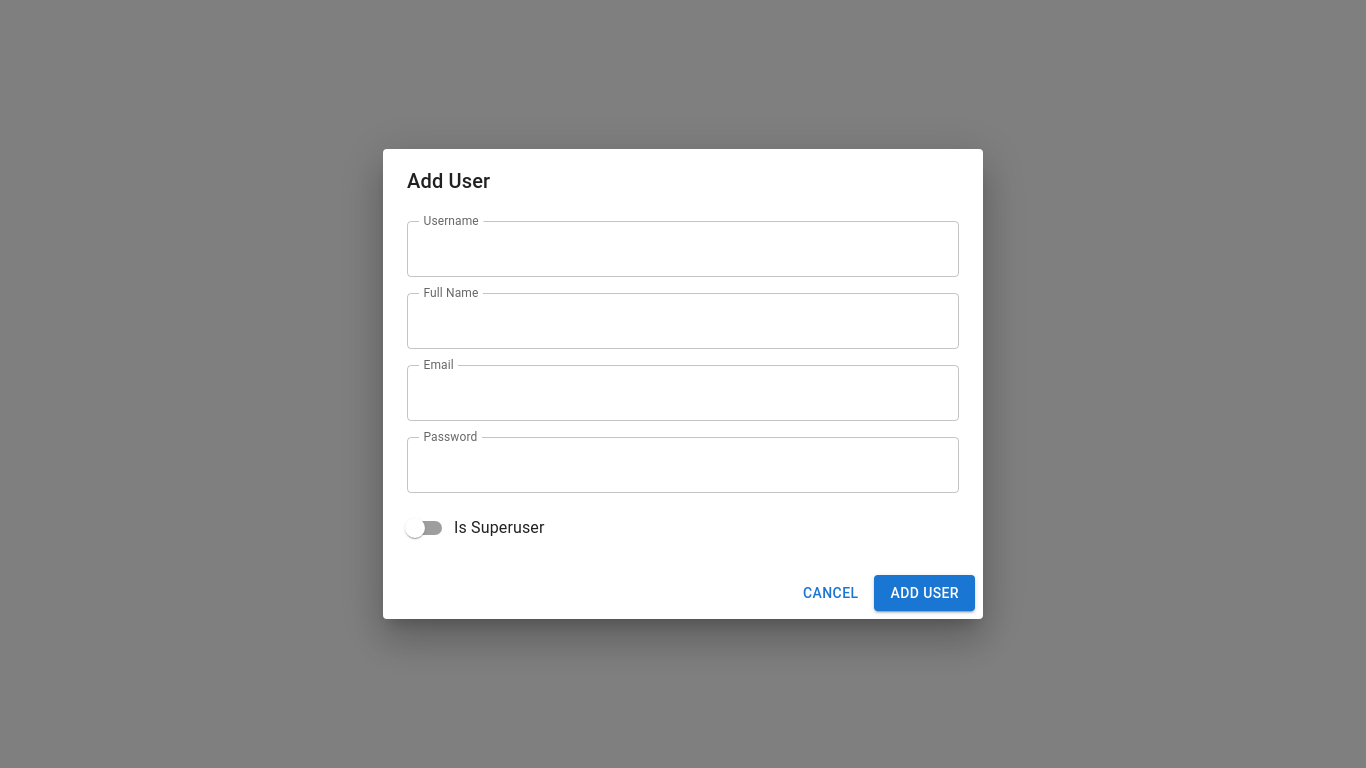
Test: UserDialog — add mode › shows error when username is empty
The image size is (1366, 768).
Click the button "Add User": (925, 593) [874,575,975,611]
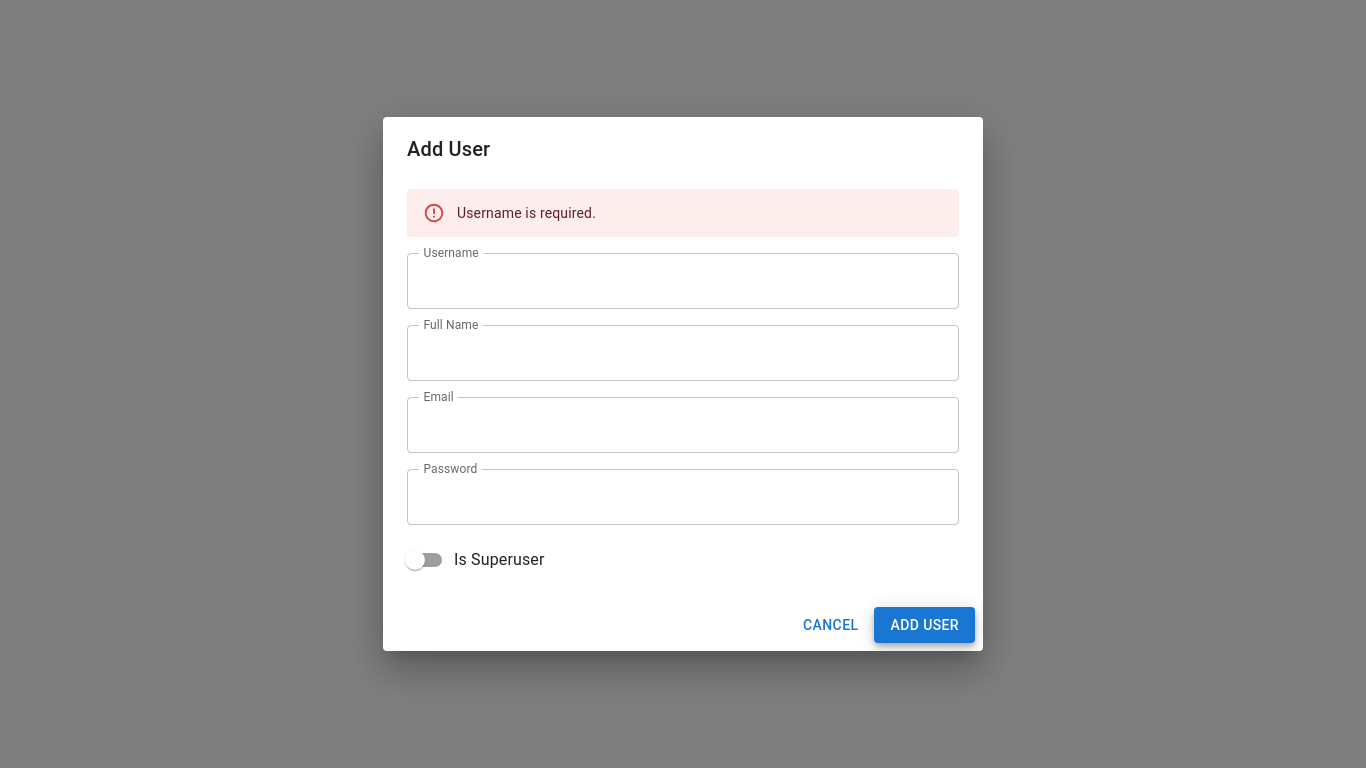
Expected: the message shows "Username is required", [457,205,596,221]
